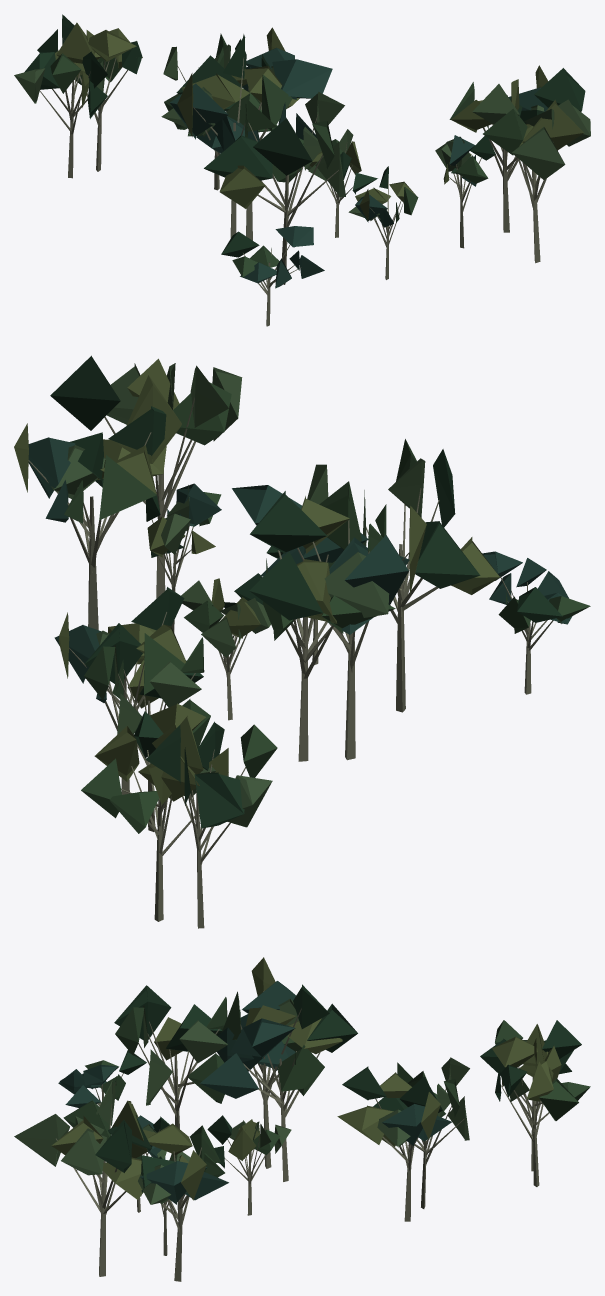
File: forest_26_26.dae
The picture shows the model from 3 angles, top to bottom: view 1: azimuth 30°, elevation 25°; view 2: azimuth 150°, elevation 25°; view 3: azimuth 270°, elevation 25°; orthographic projection. The views are drawn at different scales.
Parts seen in each view (by area): view 1: Node; view 2: Node; view 3: Node.
Boxes of the visible parts, x1,y1,x2,y2 form: Node: (14,14,590,326); Node: (14,355,590,928); Node: (14,957,590,1281).
Bounding box in the file's own units: 7.32 × 9.99 × 4.11.
